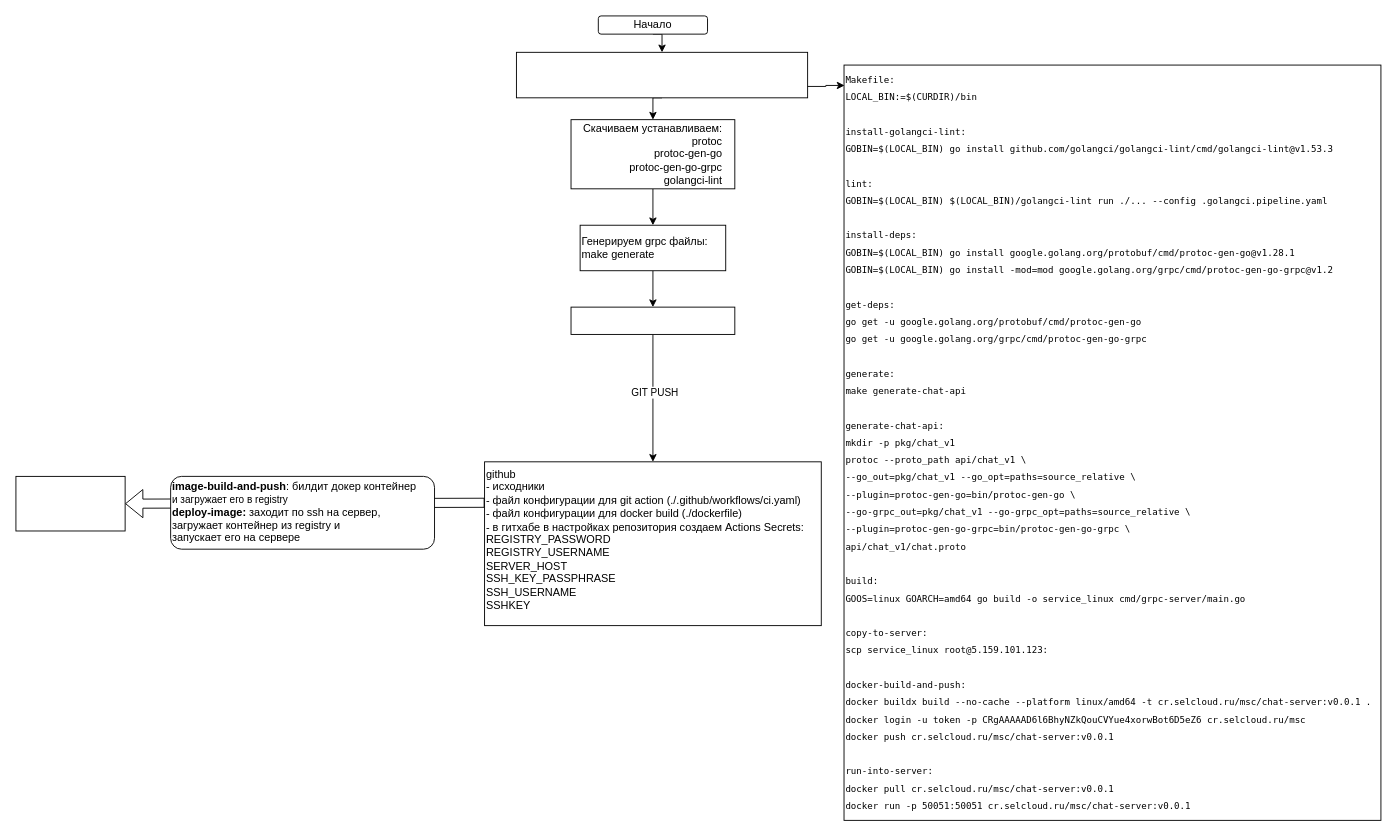
This 1397x836 diagram has some shape labels left out. The box of each missing label's shape, as (x1, y1, x2, y2) in pixels:
selectel - сервер - registry: (15, 475, 125, 531)
Пишем main.go Создаем модуль: go mod init: (570, 306, 735, 334)
Создаем файл конфигурации grpc интерфейса: ./api/chat_v1.proto Создаем Makefile: (516, 51, 808, 98)
